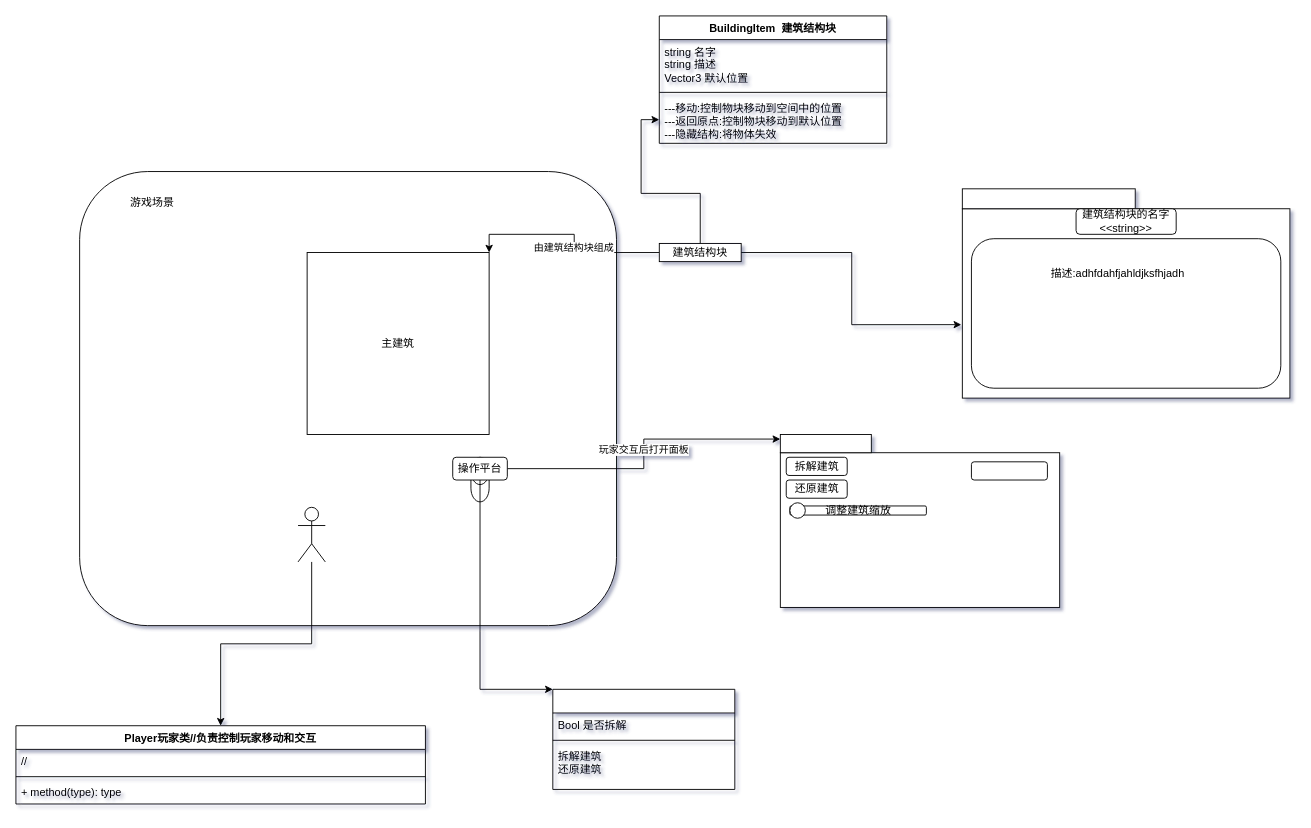
This 1311x828 diagram has some shape labels left out. The box of each missing label's shape, as (x1, y1, x2, y2) in pixels:
Actor: (297, 506, 325, 562)
BuildingManager 建筑管理类: (552, 688, 735, 789)
启动飞行模式: (971, 461, 1047, 480)
操作平台:UI面板: (779, 434, 871, 453)
玩家目光聚焦到建筑上后打开的UI: (961, 188, 1135, 209)
